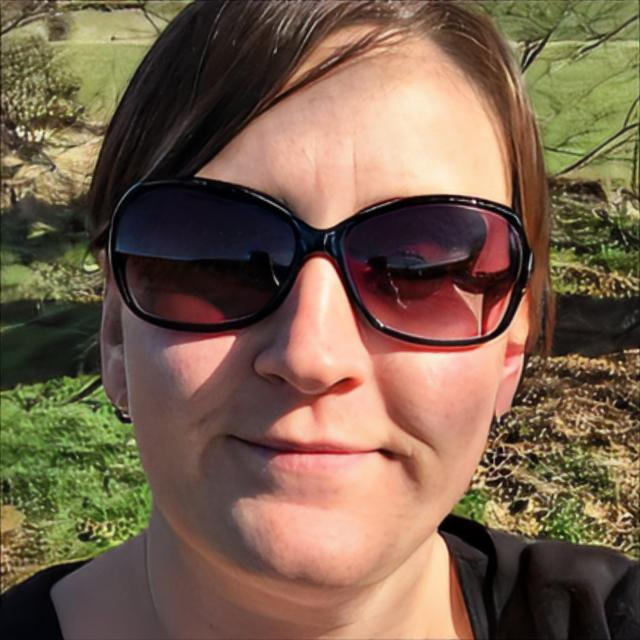content: (119, 21, 517, 586)
